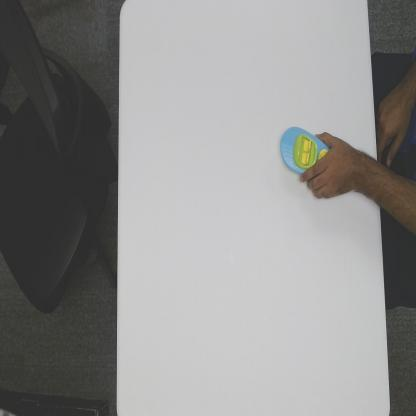Arm: (353, 148, 379, 204)
Boat: (279, 124, 331, 176)
Hand: (298, 131, 352, 202)
